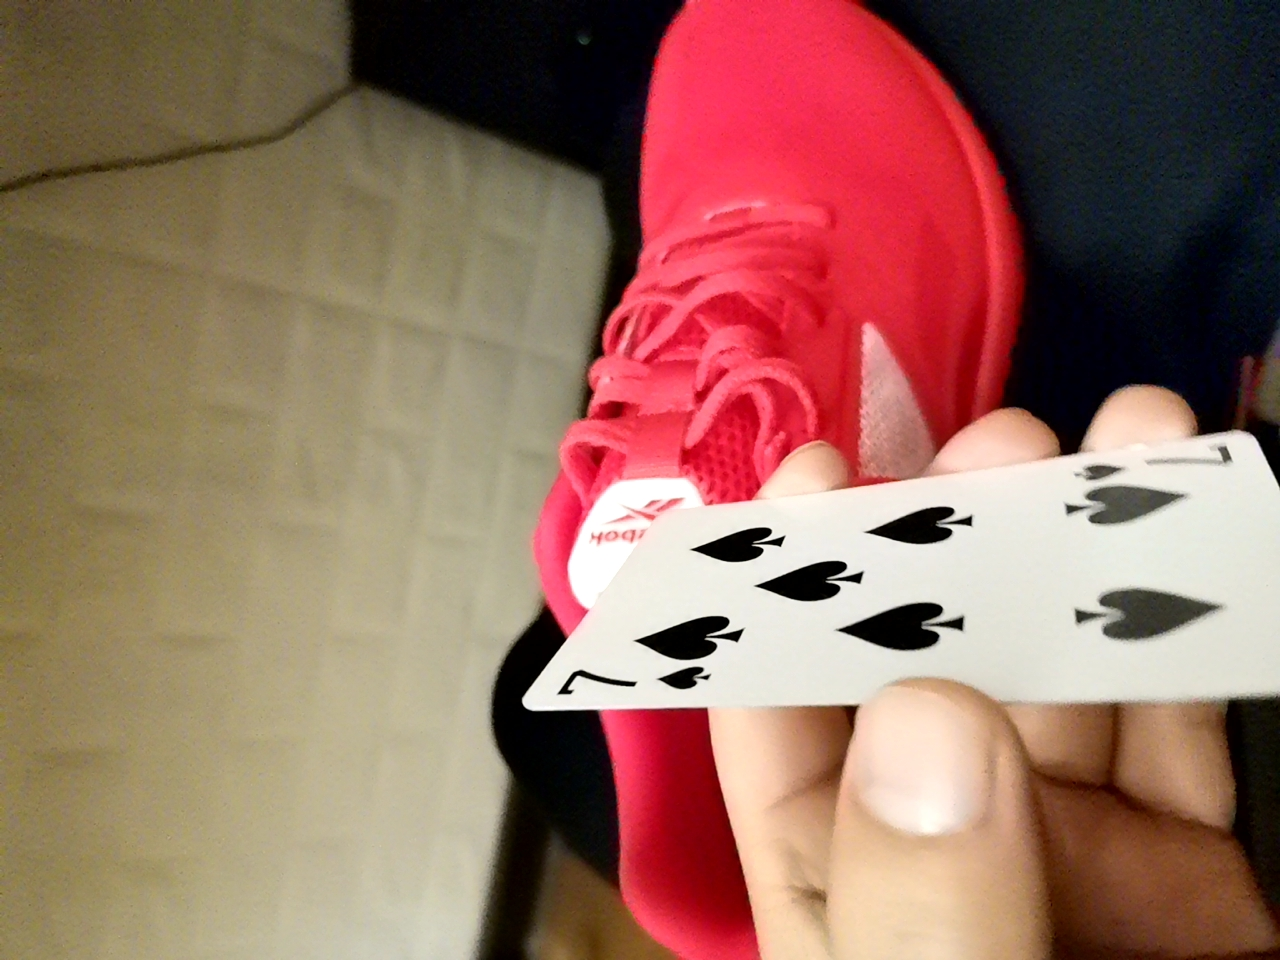ht 7: (531, 430, 1276, 730)
